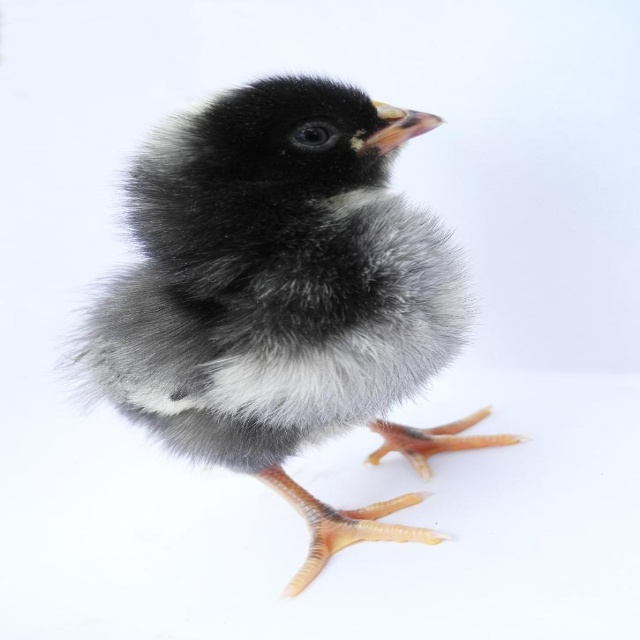Chicken: (41, 29, 504, 590)
